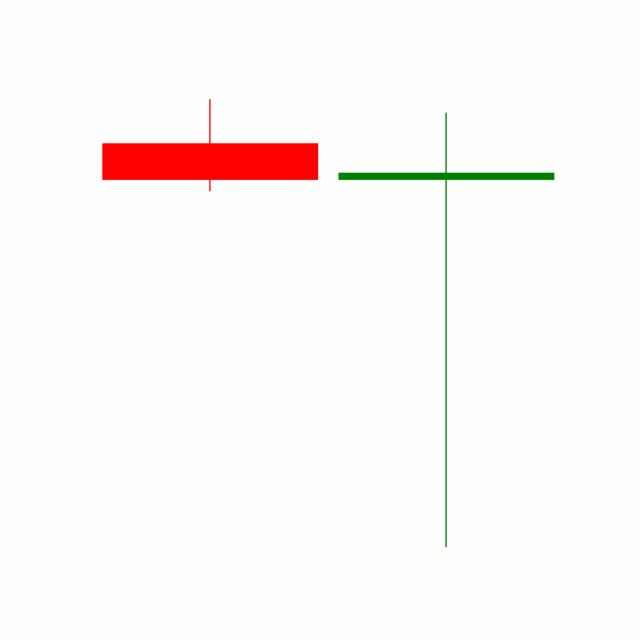Spinning Top: (327, 107, 565, 552)
